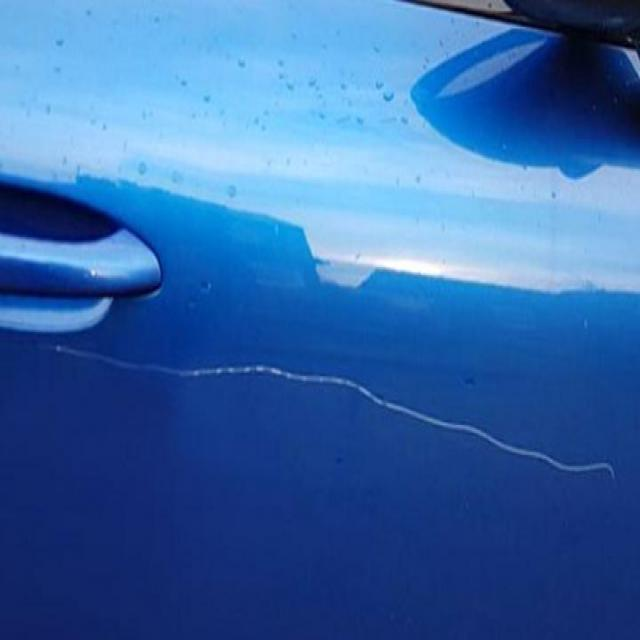scratch: (27, 323, 625, 519)
